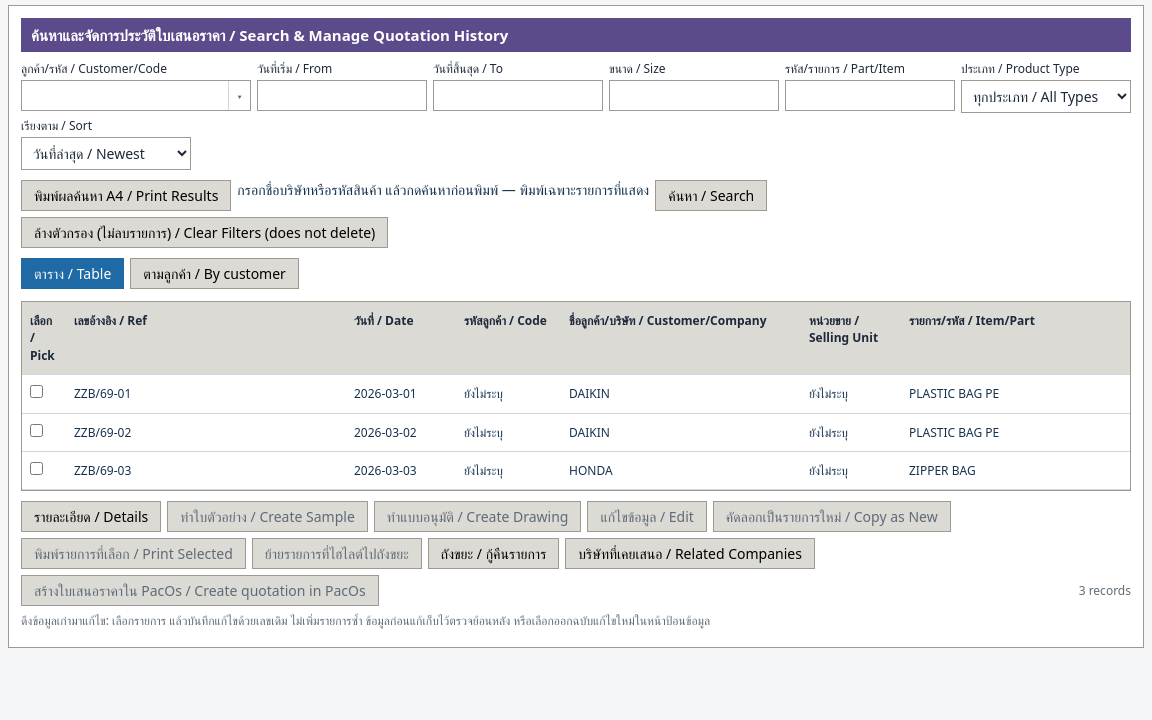
sending ticked prices to PacOs › a tick also selects the row for Edit (CEO 2026-09)
Expected: the text "ZZB/69-01" is shown, [66,375,346,413]
Step 1. Click the checkbox named "เลือก / Pick ZZB/69-01" → (36, 392), box [30,385,43,398]
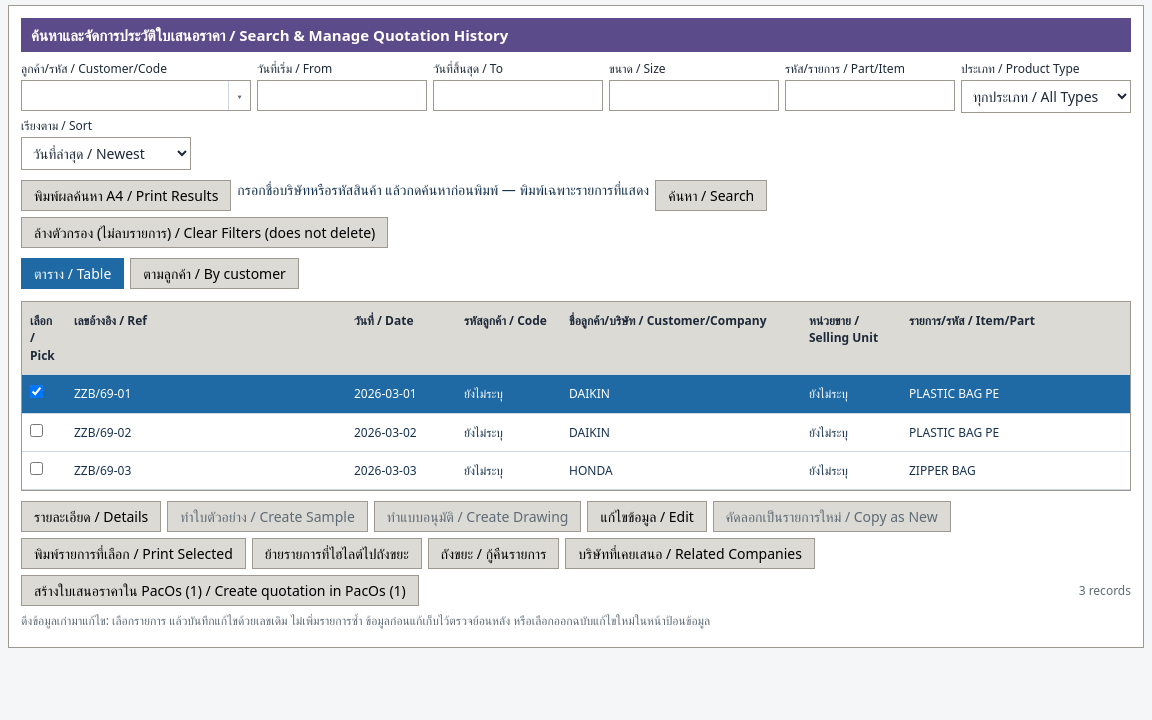
Expected: the button "แก้ไขข้อมูล / Edit" is enabled, [588,501,707,532]
